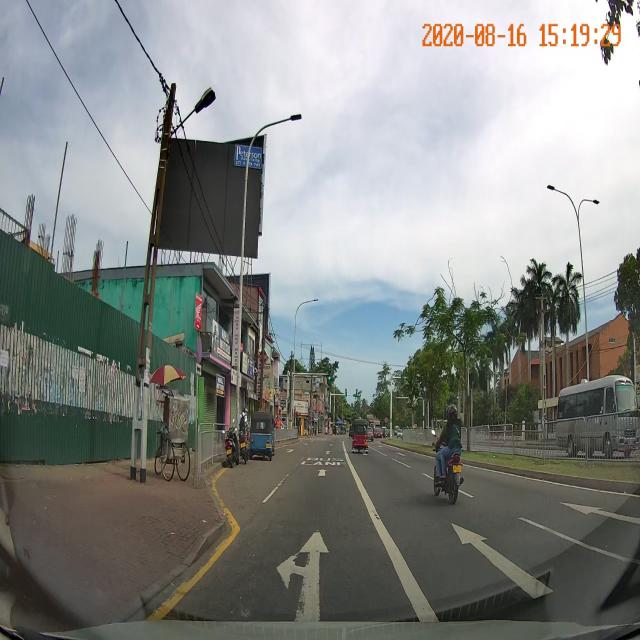forward_lft: (162, 515, 439, 619), (177, 533, 428, 600), (196, 526, 409, 564)
